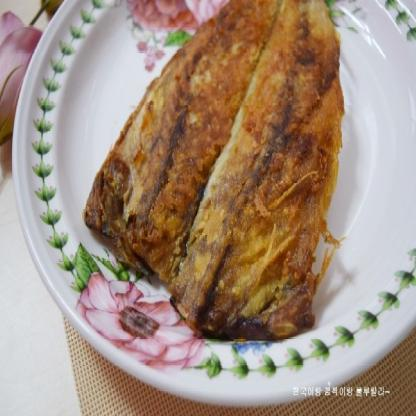Peixe: (69, 0, 360, 347)
